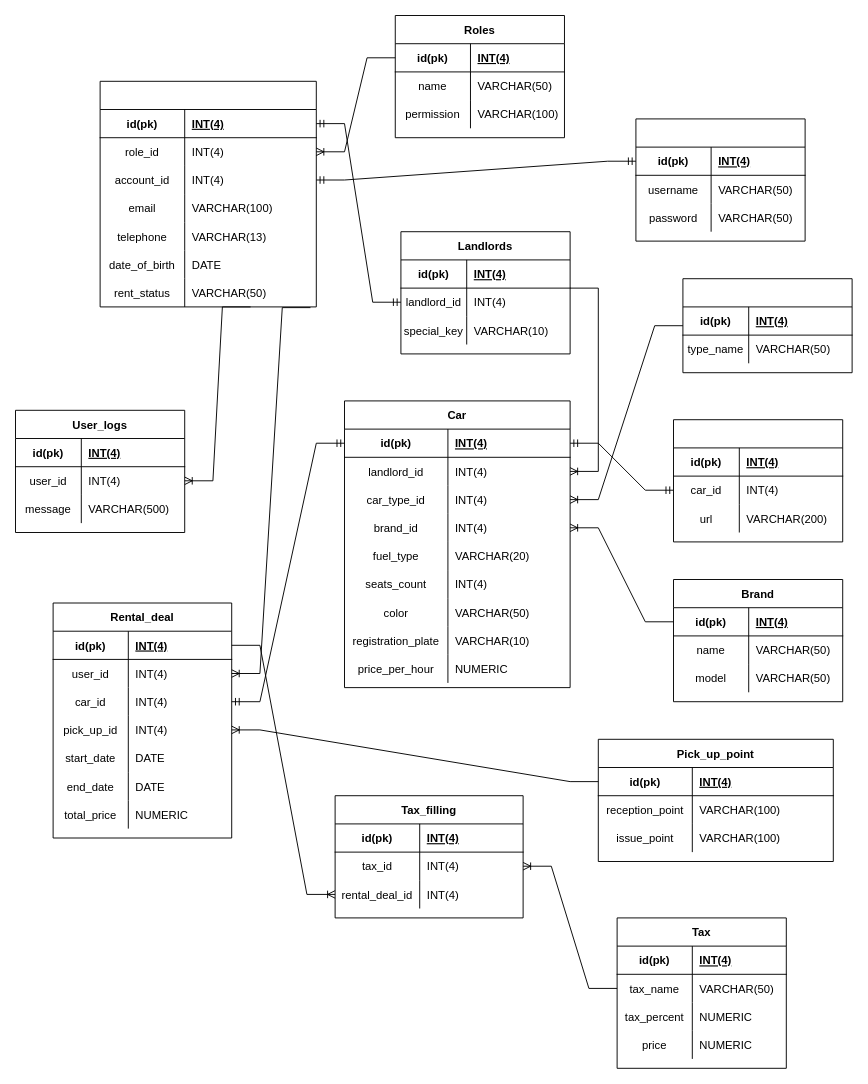
The diagram is 868 pixels wide and 1084 high, and some of its shapes have lost their labels. The box of each missing label's shape, as (x1, y1, x2, y2) in pixels:
Account: (635, 118, 805, 241)
Car_images: (673, 419, 843, 542)
Car_type: (682, 278, 852, 373)
Users: (99, 80, 316, 307)
